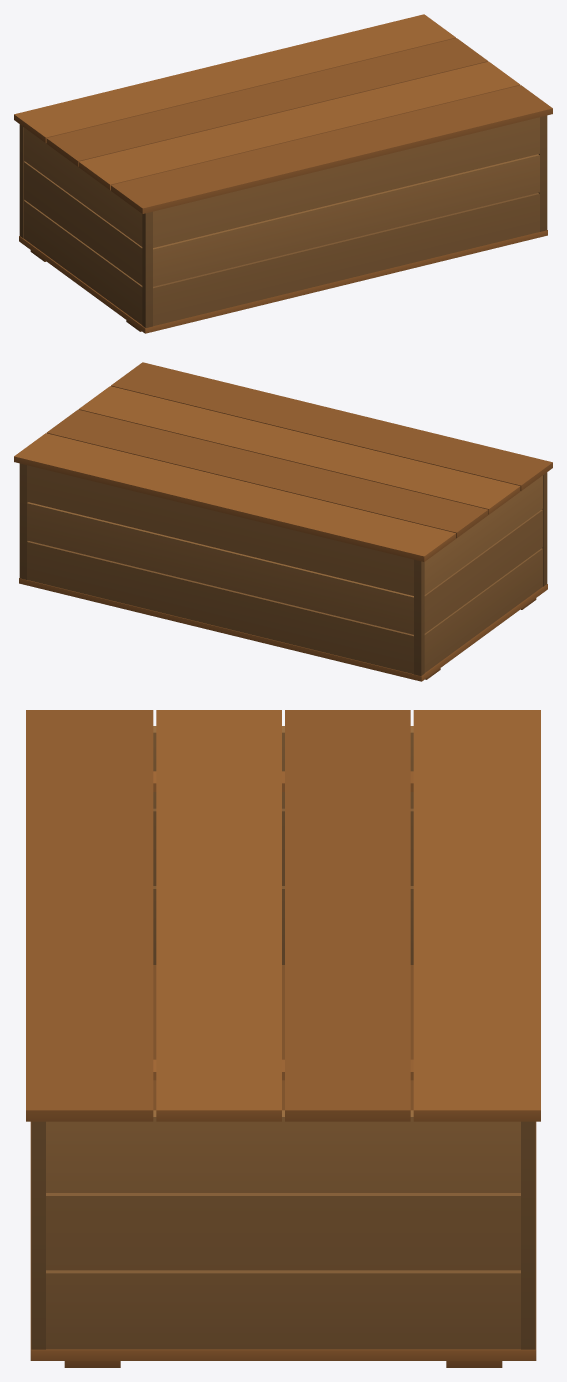
Rendered from Prop_Crate_Box_Open_02.obj.
3 renders of one model, top to bottom at view 1: azimuth 30°, elevation 25°; view 2: azimuth 150°, elevation 25°; view 3: azimuth 270°, elevation 25°, orthographic. The views are drawn at different scales.
Visible parts, largest first — view 1: Prop_Crate_Box_Open_02, Prop_Crate_Box_Open_Top_02; view 2: Prop_Crate_Box_Open_02, Prop_Crate_Box_Open_Top_02; view 3: Prop_Crate_Box_Open_Top_02, Prop_Crate_Box_Open_02.
Boxes of the visible parts, <box> form: Prop_Crate_Box_Open_02: <box>19,115,547,333</box>; Prop_Crate_Box_Open_Top_02: <box>14,14,552,213</box>; Prop_Crate_Box_Open_02: <box>19,463,547,681</box>; Prop_Crate_Box_Open_Top_02: <box>14,362,552,561</box>; Prop_Crate_Box_Open_Top_02: <box>26,710,540,1121</box>; Prop_Crate_Box_Open_02: <box>30,726,536,1367</box>.
Bounding box in the file's own units: 1.7 × 0.5227 × 0.9219.
Materials: 1 (1 with a texture image).
